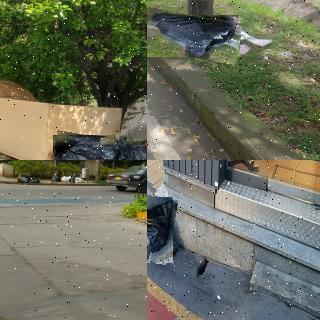Garbage: (147, 10, 241, 61), (51, 132, 121, 160), (147, 195, 175, 264), (102, 126, 147, 160), (18, 175, 31, 183), (51, 174, 62, 182), (30, 176, 41, 183), (61, 176, 70, 182), (75, 177, 84, 183), (70, 174, 76, 183)
